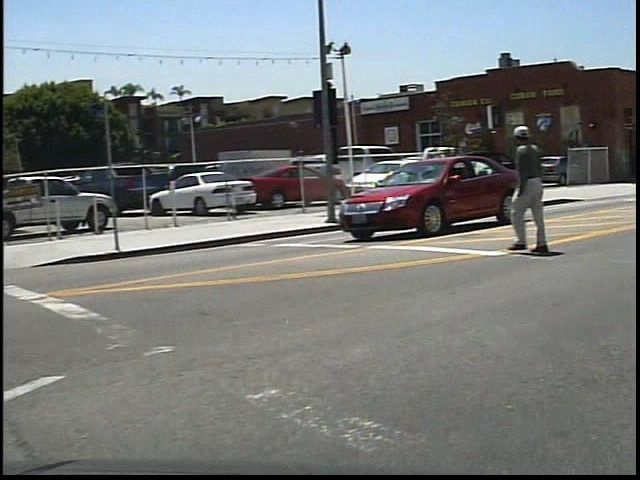person: (508, 115, 568, 263)
